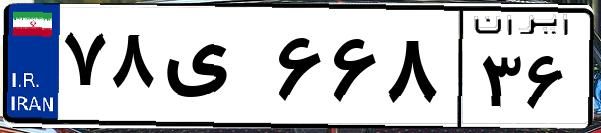3: (475, 38, 525, 113)
6: (270, 28, 330, 110), (330, 28, 385, 110), (525, 38, 570, 115)
7: (57, 26, 110, 100)
8: (385, 28, 445, 110), (110, 28, 158, 98)
ی: (158, 20, 270, 120)
